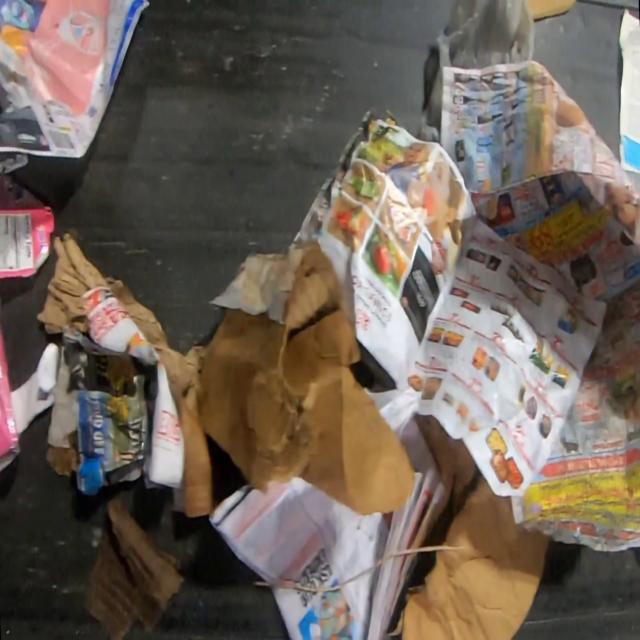cardboard: (37, 231, 416, 516), (400, 476, 548, 638), (83, 497, 186, 637), (0, 173, 53, 279)
soft_plastic: (420, 0, 534, 141), (0, 327, 22, 477)
